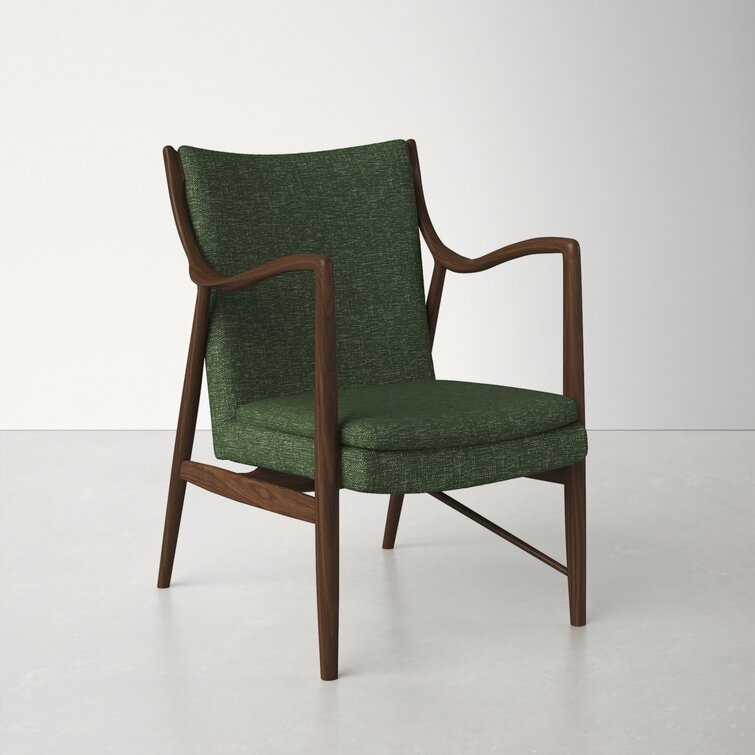obstacle: (158, 140, 586, 679)
